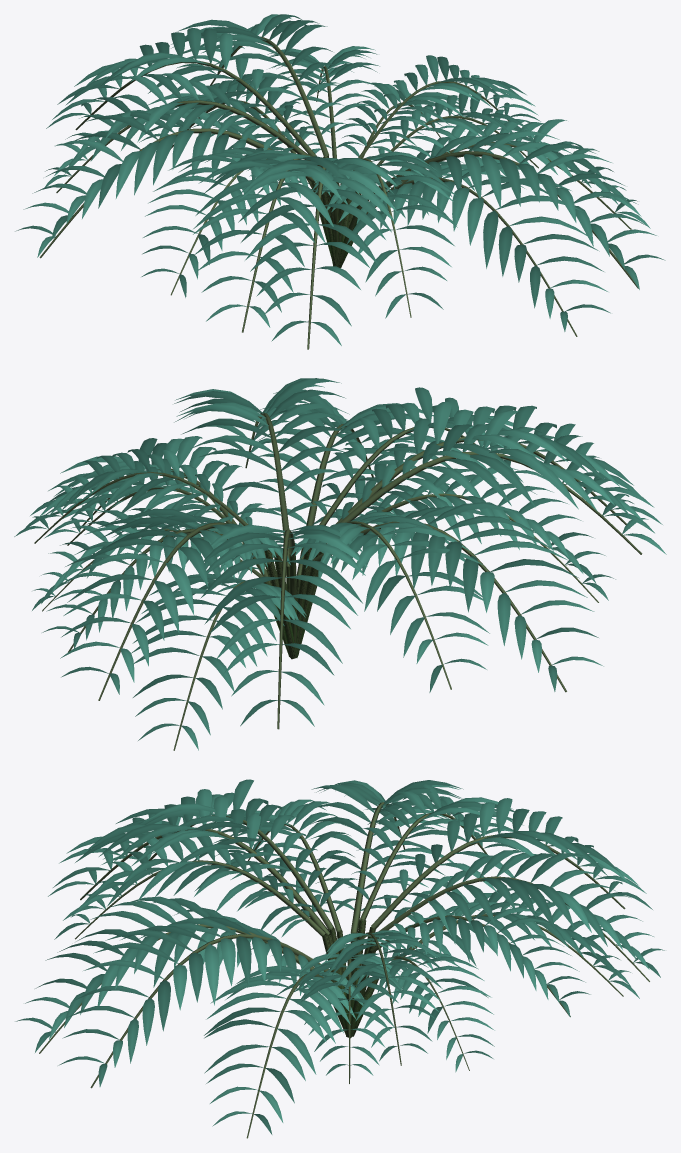
The model's file is Tide Fern.glb.
3 views of the same model, one above another, from view 1: azimuth 30°, elevation 25°; view 2: azimuth 150°, elevation 25°; view 3: azimuth 270°, elevation 25° (orthographic). The views are drawn at different scales.
Visible parts, largest first — view 1: Tide Fern; view 2: Tide Fern; view 3: Tide Fern.
Part boxes in pixels (<box>): Tide Fern: <box>15,14,665,349</box>; Tide Fern: <box>14,378,666,750</box>; Tide Fern: <box>15,779,664,1138</box>.
Bounding box in the file's own units: 4.61 × 1.45 × 4.73.
Materials: 3 (1 with a texture image).
